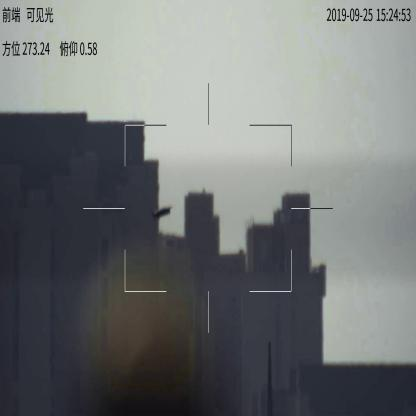uav: (149, 206, 171, 222)
